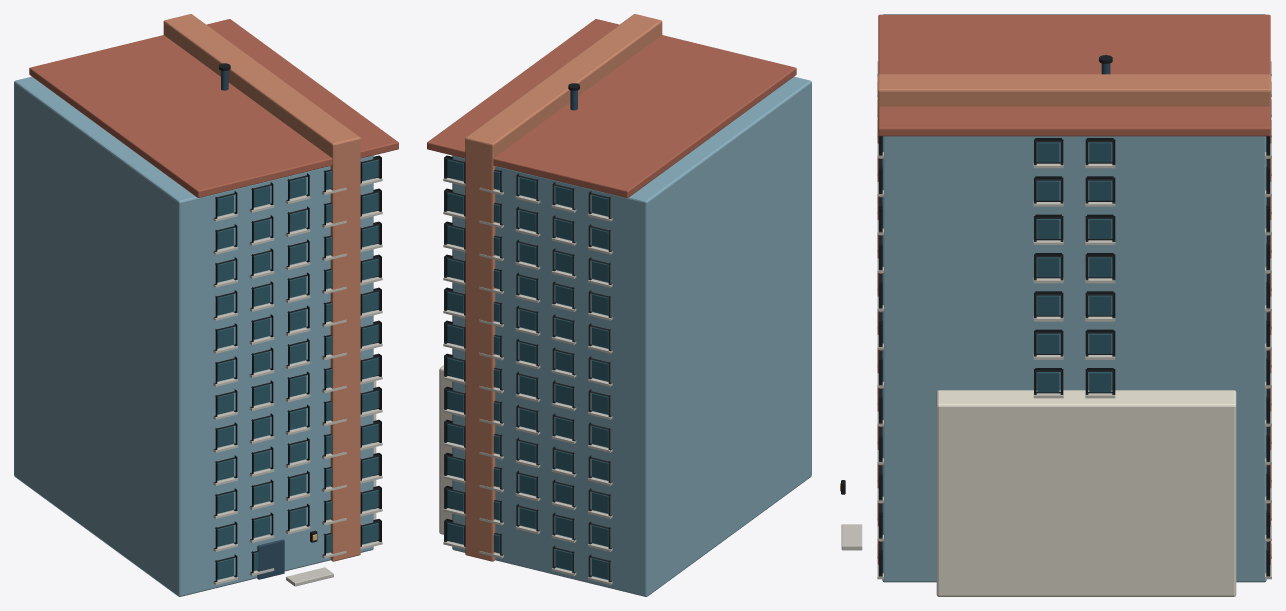
Rendered from RES_HIGH_2x3_002.glb.
3 renders of one model, left to right at view 1: azimuth 30°, elevation 25°; view 2: azimuth 150°, elevation 25°; view 3: azimuth 270°, elevation 25°, orthographic. The views are drawn at different scales.
Visible parts, largest first — view 1: RES_HIGH_2x3_002_Visual; view 2: RES_HIGH_2x3_002_Visual; view 3: RES_HIGH_2x3_002_Visual.
Boxes of the visible parts, box(x1,y1,x2,y2) form: RES_HIGH_2x3_002_Visual: box(14, 14, 398, 596); RES_HIGH_2x3_002_Visual: box(427, 14, 811, 596); RES_HIGH_2x3_002_Visual: box(840, 14, 1271, 596).
Size of what is drawn, in the model's own units: 3.72 by 6.85 by 5.42.
